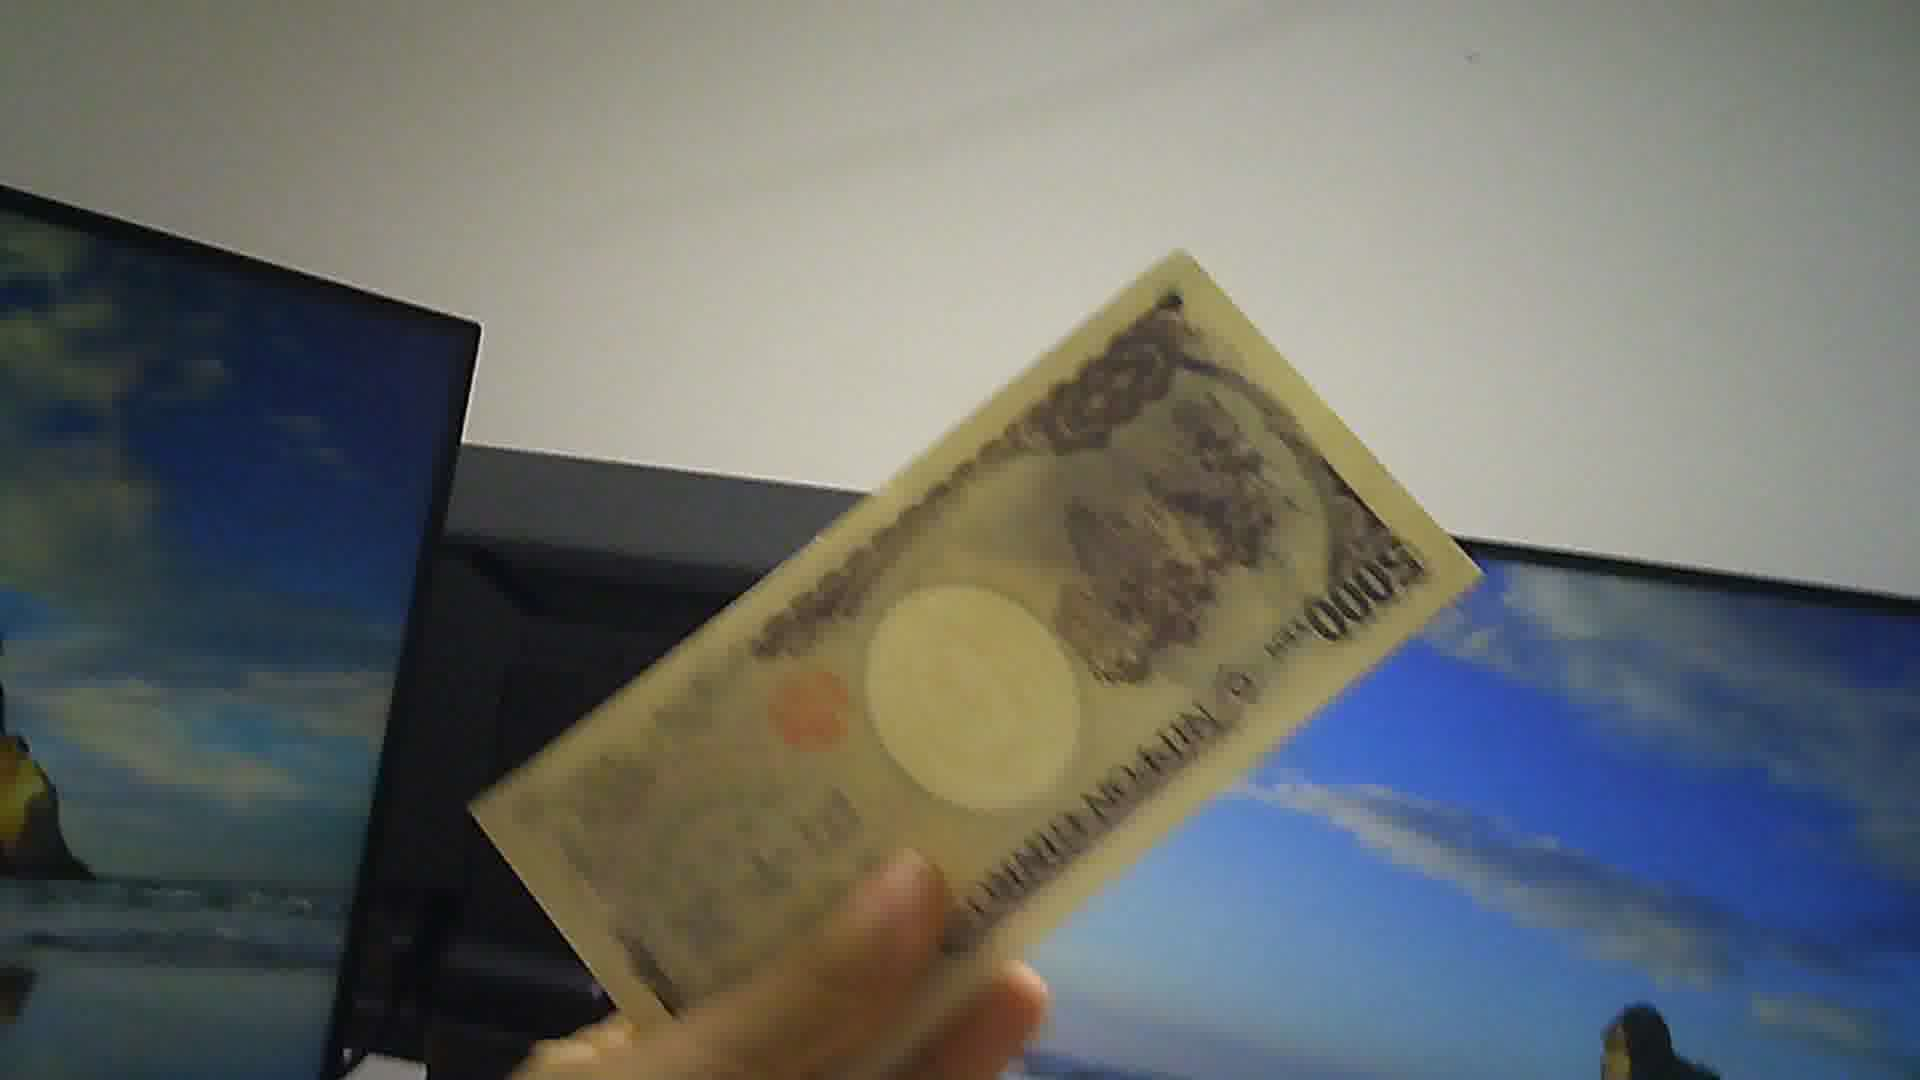5,000 Yen: (471, 243, 1470, 1054)
